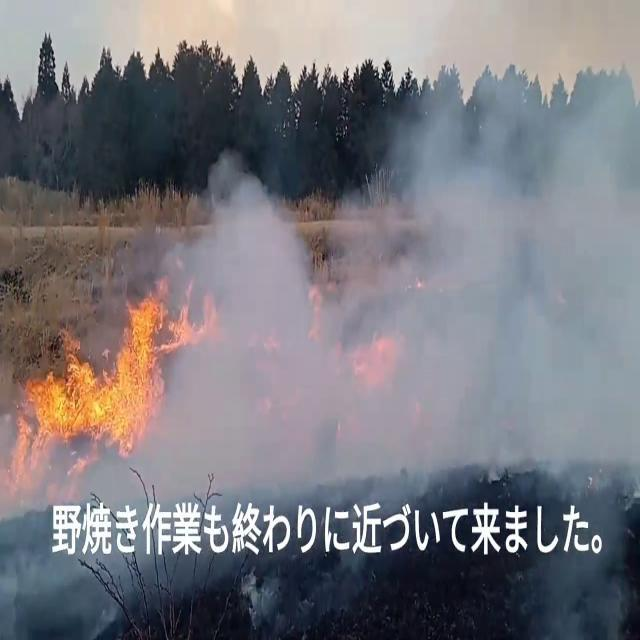Fire: (15, 286, 187, 452)
Smoke: (135, 70, 640, 500)
